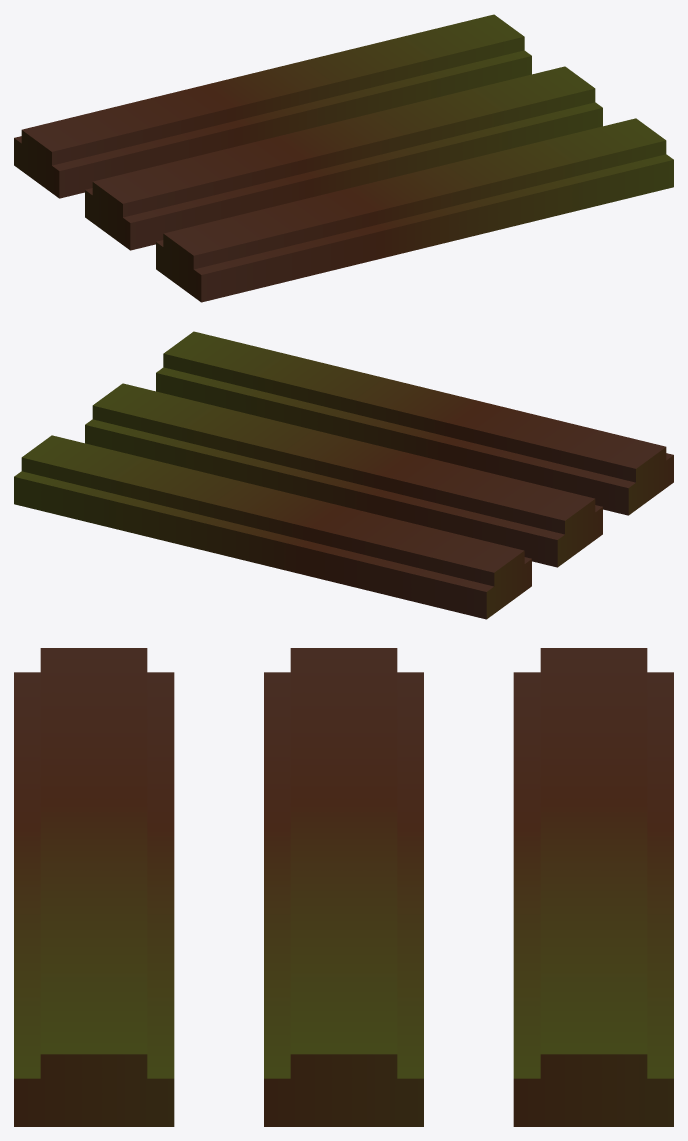
Rendered from SM_EmptyGarden.fbx.
3 views of the same model, one above another, from view 1: azimuth 30°, elevation 25°; view 2: azimuth 150°, elevation 25°; view 3: azimuth 270°, elevation 25° (orthographic). The views are drawn at different scales.
Visible parts, largest first — view 1: SM_EmptyGarden; view 2: SM_EmptyGarden; view 3: SM_EmptyGarden.
Boxes of the visible parts, x1,y1,x2,y2 form: SM_EmptyGarden: [14, 14, 673, 302]; SM_EmptyGarden: [14, 331, 673, 619]; SM_EmptyGarden: [14, 648, 673, 1126].
Size of the model in its own units: 3.6 by 0.3 by 2.47.
1 material, 1 textured.
